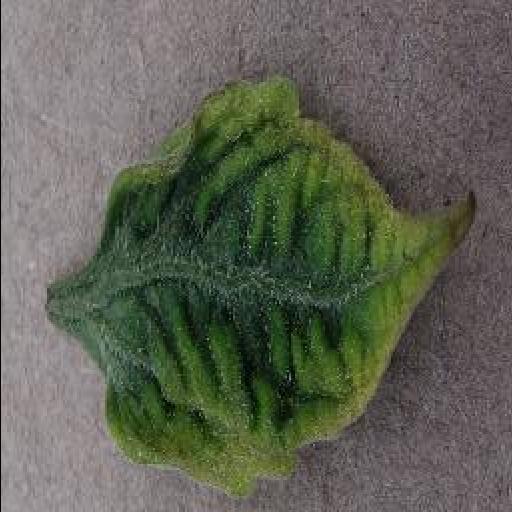disease_tomato: (88, 78, 476, 500)
